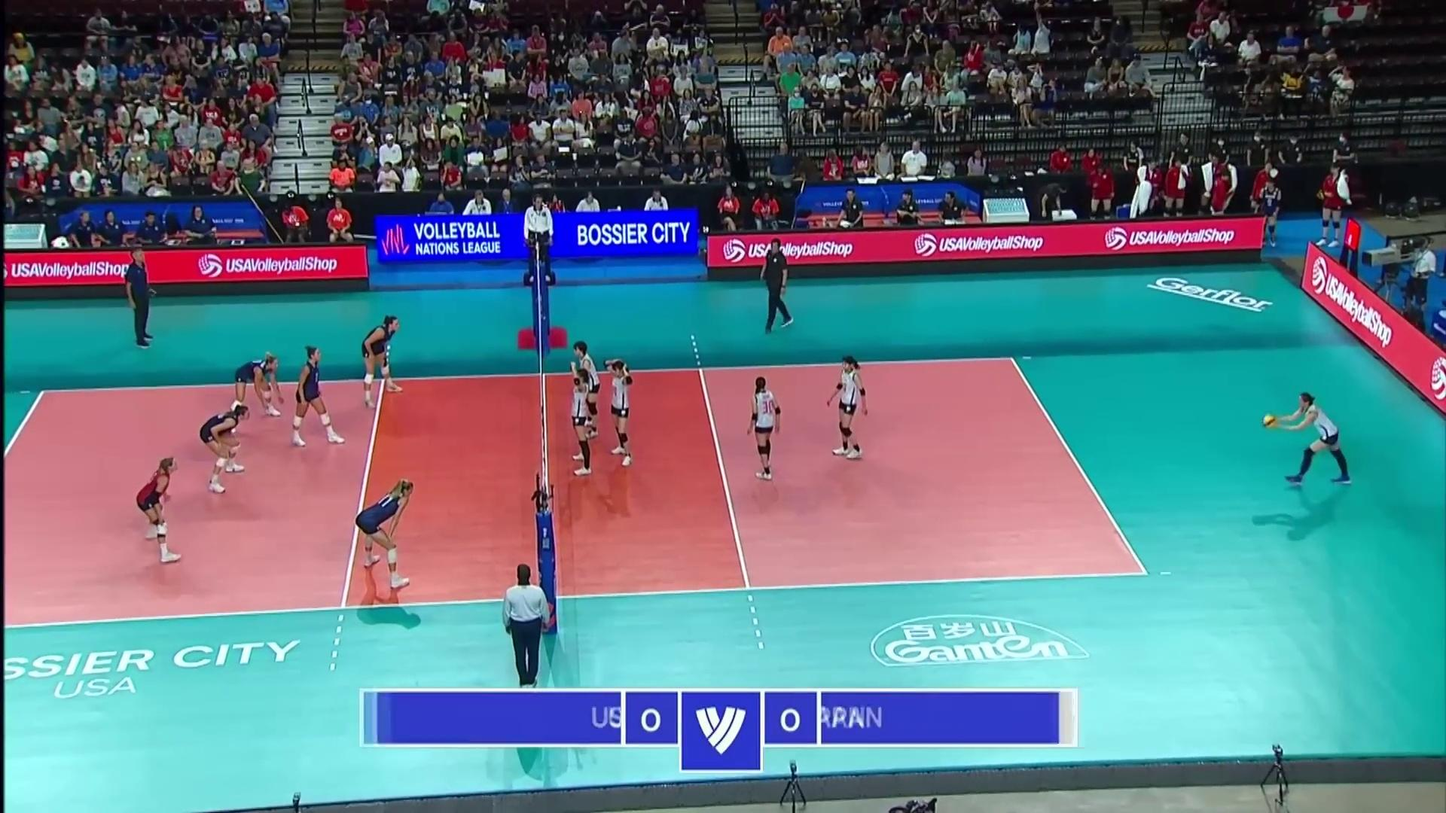player: (351, 478, 417, 592), (1276, 391, 1353, 483), (289, 344, 351, 448), (133, 457, 188, 566), (593, 355, 643, 467), (221, 353, 288, 422), (198, 403, 248, 495), (828, 358, 873, 460), (748, 375, 788, 478), (361, 317, 405, 407), (570, 341, 603, 440), (569, 363, 597, 479)
refree: (502, 569, 553, 688), (521, 196, 553, 287)
